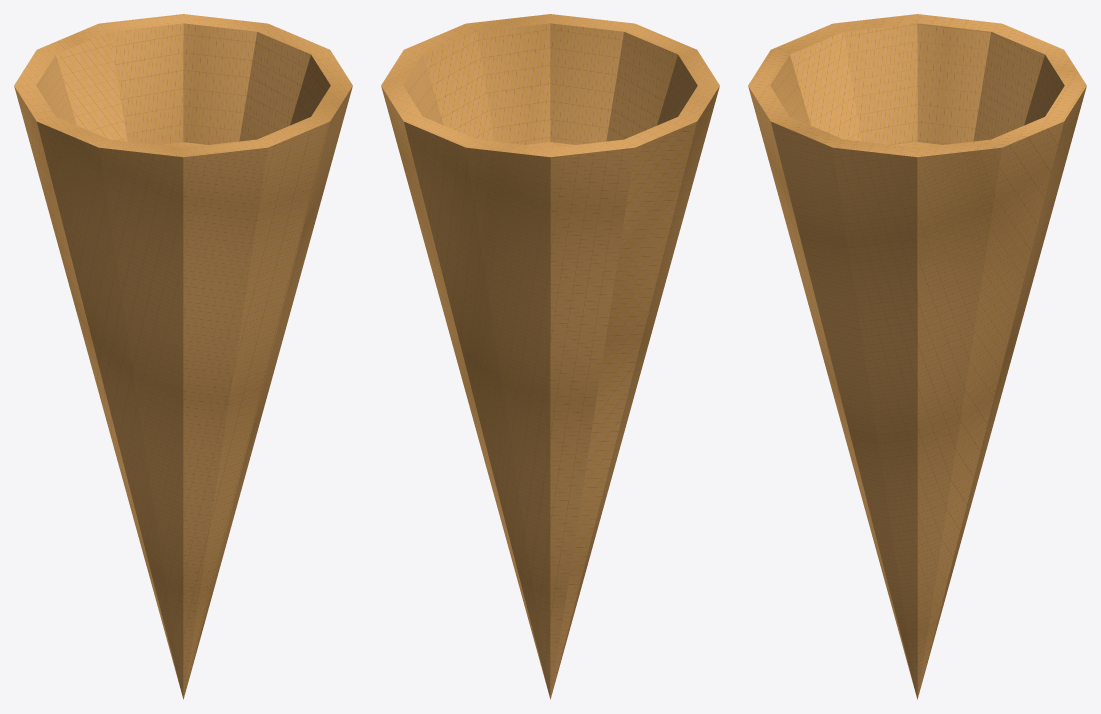
File: Ice_cream_cone_1.fbx
The picture shows the model from 3 angles, left to right: view 1: azimuth 30°, elevation 25°; view 2: azimuth 150°, elevation 25°; view 3: azimuth 270°, elevation 25°; orthographic projection.
Visible parts, largest first — view 1: Ice_cream_cone_1; view 2: Ice_cream_cone_1; view 3: Ice_cream_cone_1.
Part boxes in pixels (left/top/right/bottom): Ice_cream_cone_1: left=14, top=14, right=352, bottom=699; Ice_cream_cone_1: left=381, top=14, right=719, bottom=699; Ice_cream_cone_1: left=748, top=14, right=1086, bottom=699.
Bounding box in the file's own units: 14.08 × 28.17 × 14.08.
